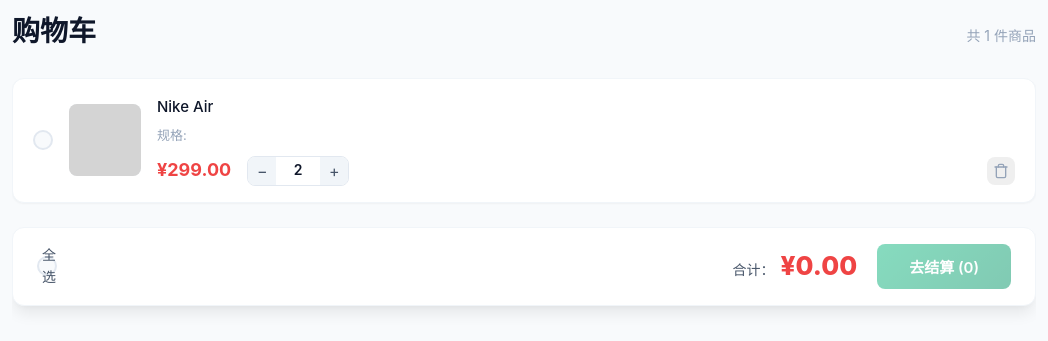
Scenario: Cart 购物车页 › 删除条目：确认后移除并同步角标
Click the button with class "item-del": x=1001, y=171 987,157 -> 1015,185
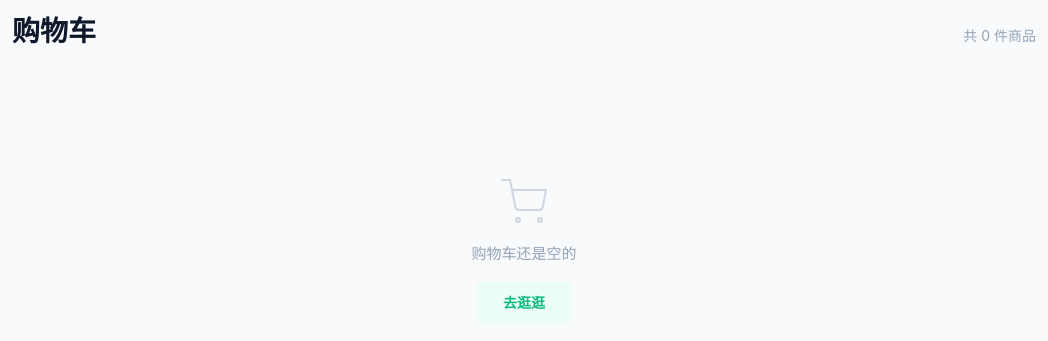
expect the text "Nike Air" is gone: met
